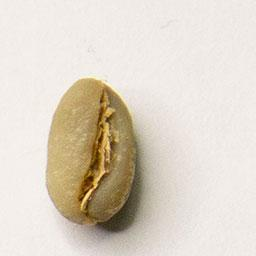longberry: (41, 71, 142, 230)
